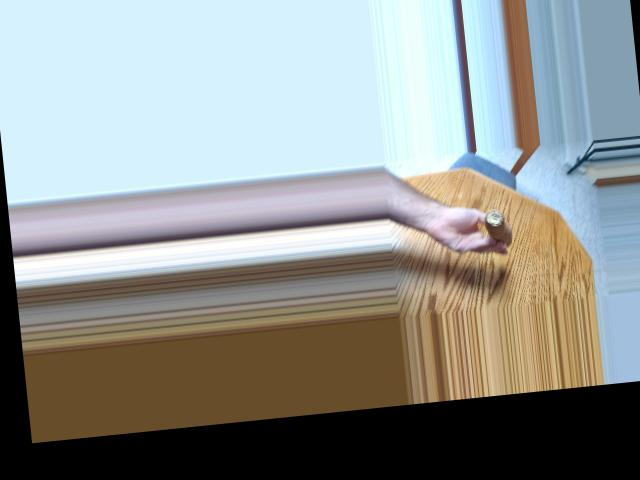sweet_potato: (476, 202, 514, 250)
